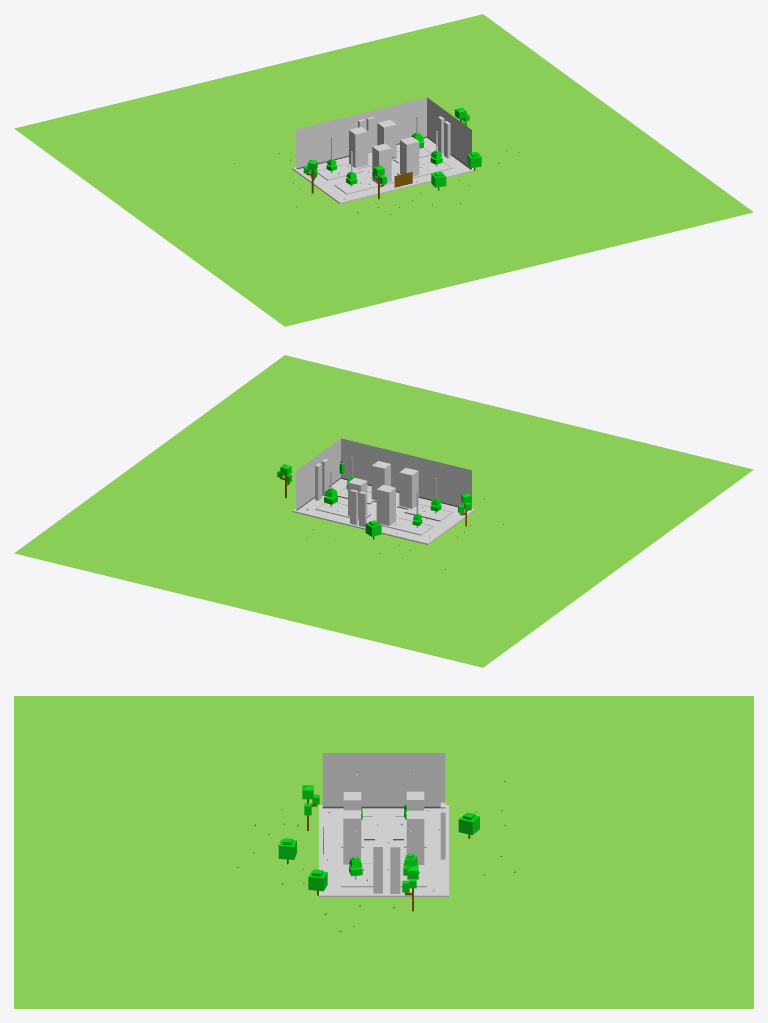
File: park2.glb
3 renders of one model, top to bottom at view 1: azimuth 30°, elevation 25°; view 2: azimuth 150°, elevation 25°; view 3: azimuth 270°, elevation 25°, orthographic. The views are drawn at different scales.
Parts seen in each view (by area): view 1: cenario, colisao; view 2: cenario, colisao; view 3: cenario, colisao.
Part boxes in pixels (x1,y1,x2,y2): cenario: [14, 14, 753, 326]; colisao: [292, 97, 475, 203]; cenario: [14, 355, 753, 667]; colisao: [292, 438, 475, 544]; cenario: [14, 696, 753, 1008]; colisao: [319, 753, 448, 897].
Size of the model in its own units: 35.19 by 2.92 by 35.19.
